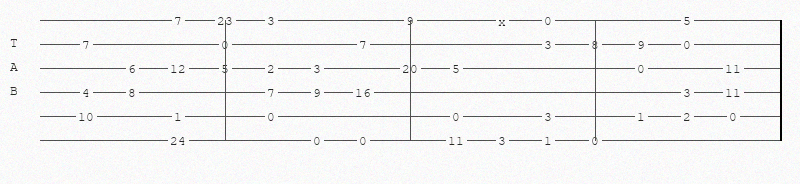0: (221, 38, 233, 50), (267, 110, 279, 122), (313, 134, 325, 146), (359, 134, 371, 146), (452, 110, 464, 122), (544, 14, 556, 26), (591, 134, 603, 146), (637, 62, 649, 74), (683, 38, 695, 50), (729, 110, 741, 122)
1: (174, 110, 186, 122), (544, 134, 556, 146), (637, 110, 649, 122)
10: (78, 110, 98, 122)
11: (448, 134, 468, 146), (725, 86, 745, 98), (725, 62, 745, 74)
12: (170, 62, 190, 74)
16: (355, 86, 375, 98)
2: (267, 62, 279, 74), (683, 110, 695, 122)
20: (402, 62, 422, 74)
23: (217, 14, 237, 26)
24: (170, 134, 190, 146)
3: (267, 14, 279, 26), (313, 62, 325, 74), (498, 134, 510, 146), (544, 38, 556, 50), (544, 110, 556, 122), (683, 86, 695, 98)
4: (82, 86, 94, 98)
5: (221, 62, 233, 74), (452, 62, 464, 74), (683, 14, 695, 26)
6: (128, 62, 140, 74)
7: (82, 38, 94, 50), (174, 14, 186, 26), (267, 86, 279, 98), (359, 38, 371, 50)
8: (128, 86, 140, 98), (591, 38, 603, 50)
9: (313, 86, 325, 98), (406, 14, 418, 26), (637, 38, 649, 50)
x: (498, 15, 510, 25)
